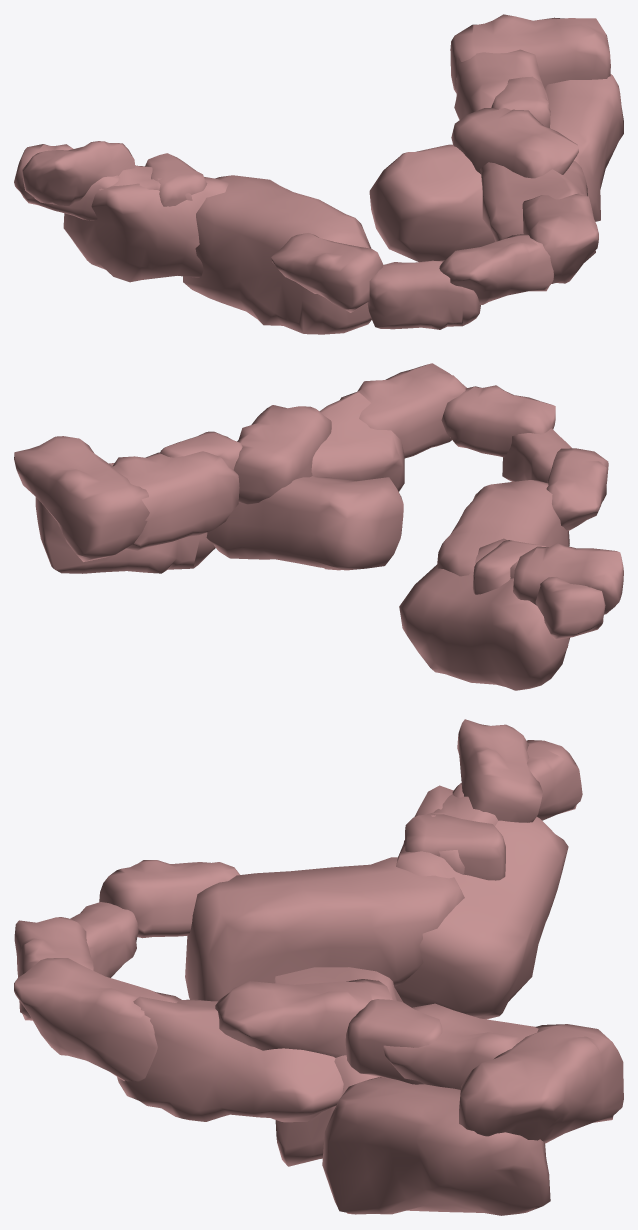
The model's file is Floor_Break_06C_Lod0.fbx.
3 views of the same model, one above another, from view 1: azimuth 30°, elevation 25°; view 2: azimuth 150°, elevation 25°; view 3: azimuth 270°, elevation 25° (orthographic). The views are drawn at different scales.
Visible parts, largest first — view 1: Floor_Break_06C_Lod0; view 2: Floor_Break_06C_Lod0; view 3: Floor_Break_06C_Lod0.
Part boxes in pixels (box(x1,y1,x2,y2)): Floor_Break_06C_Lod0: box(14, 14, 623, 334); Floor_Break_06C_Lod0: box(14, 363, 623, 690); Floor_Break_06C_Lod0: box(14, 719, 623, 1215).
Size of the model in its own units: 888 by 226 by 629.
